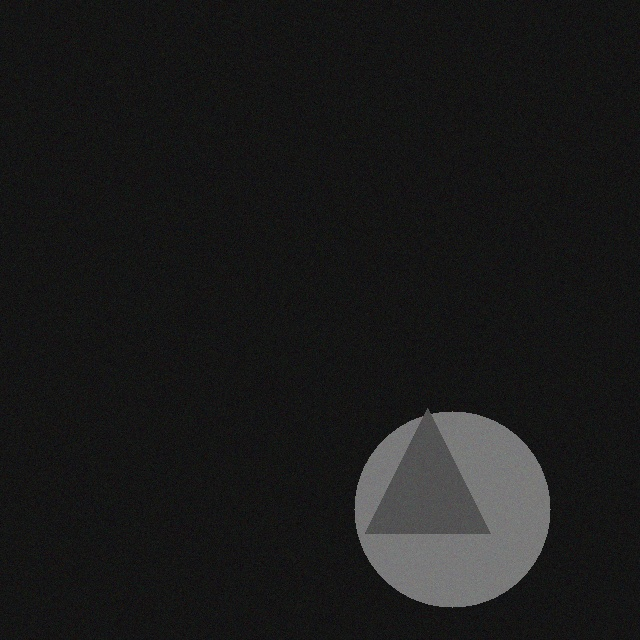circle: (352, 401, 548, 597)
triangle: (363, 398, 488, 523)
